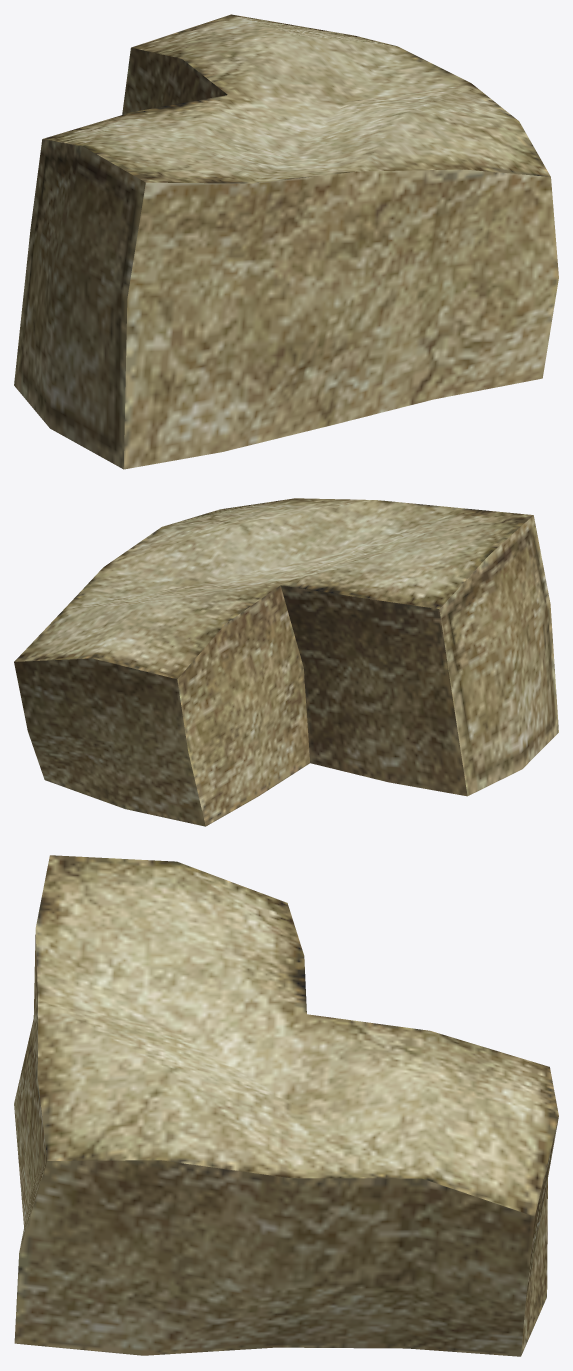
Rendered from ob-bigstone01.fbx.
3 views of the same model, one above another, from view 1: azimuth 30°, elevation 25°; view 2: azimuth 150°, elevation 25°; view 3: azimuth 270°, elevation 25° (orthographic). The views are drawn at different scales.
Visible parts, largest first — view 1: Sphere01; view 2: Sphere01; view 3: Sphere01.
Boxes of the visible parts, x1=… form: Sphere01: x1=14, y1=14, x2=558, y2=469; Sphere01: x1=14, y1=498, x2=558, y2=826; Sphere01: x1=14, y1=855, x2=558, y2=1356.
Bounding box in the file's own units: 7.09 × 3.9 × 6.6.
